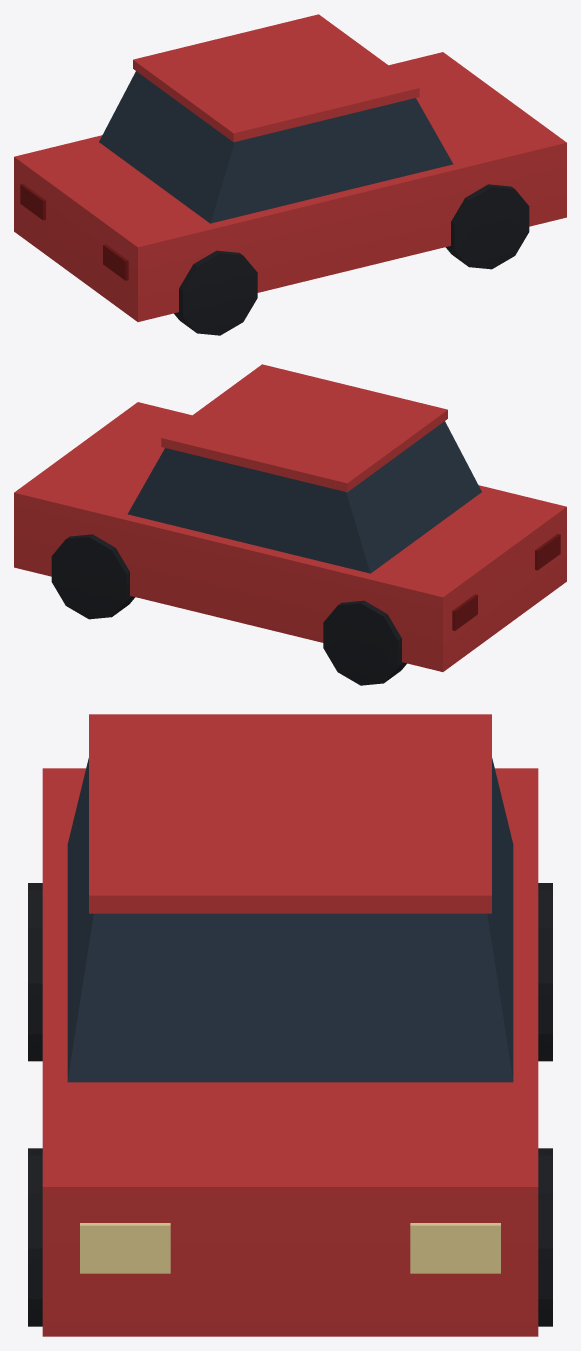
Rendered from car.glb.
3 views of the same model, one above another, from view 1: azimuth 30°, elevation 25°; view 2: azimuth 150°, elevation 25°; view 3: azimuth 270°, elevation 25° (orthographic). The views are drawn at different scales.
Visible parts, largest first — view 1: car; view 2: car; view 3: car.
Boxes of the visible parts, left/top/right/bottom form: car: left=14, top=14, right=566, bottom=335; car: left=14, top=364, right=566, bottom=685; car: left=28, top=714, right=552, bottom=1336.
Size of the model in its own units: 0.0608 by 0.0246 by 0.0318.
